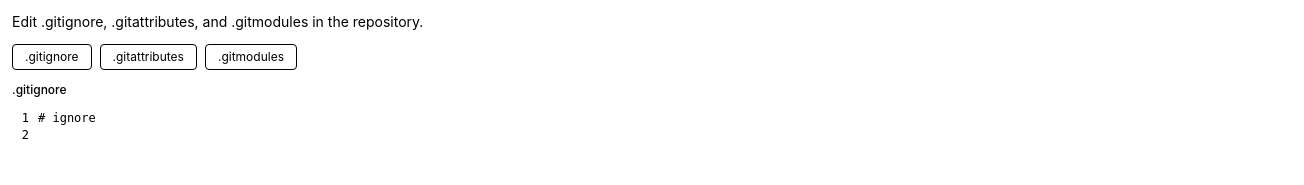
RepoFilesPanel › offers to create a missing repository file
What coordinates should you click on to do the following:
click the button ".gitattributes"
I would click on:
 (148, 57)
Its box is [100, 44, 197, 70].
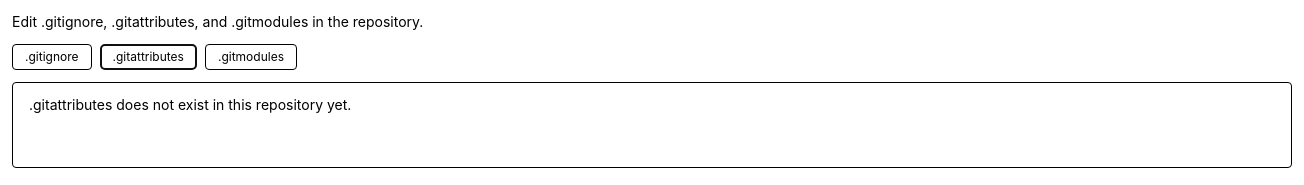
Check: the text ".gitattributes does not exist in this repository yet." is shown, box [29, 96, 351, 113]
